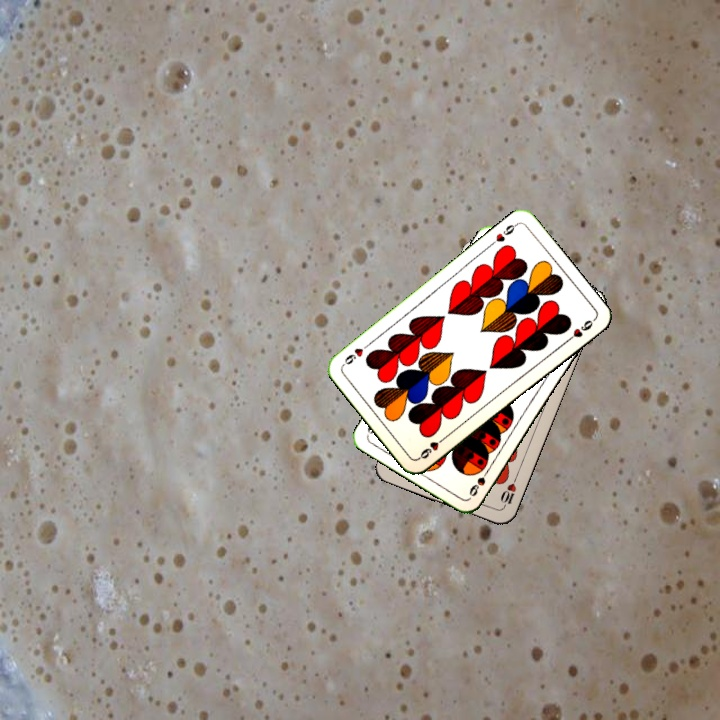H10: (496, 473, 520, 511)
H9: (415, 432, 449, 462), (486, 219, 520, 249)
S9: (465, 463, 493, 499)
